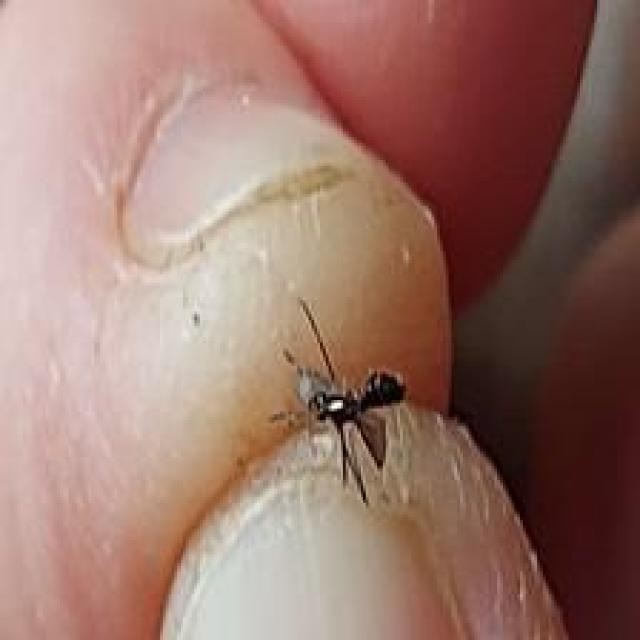Aedes albopictus: (267, 296, 410, 507)
